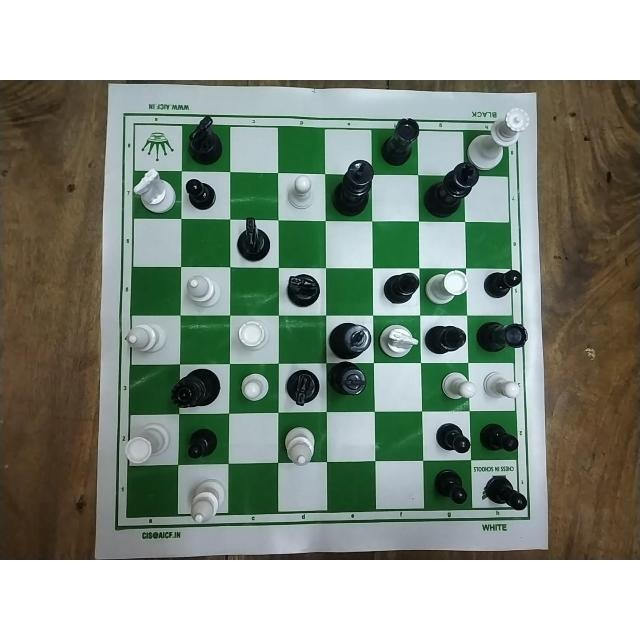black-bishop: (384, 269, 420, 308), (425, 324, 467, 356)
black-king: (427, 162, 479, 220), (332, 161, 376, 218), (328, 321, 371, 359), (327, 362, 371, 399)
black-knight: (185, 116, 228, 164), (235, 217, 273, 261), (284, 274, 322, 311), (284, 367, 320, 406)
black-pawn: (481, 473, 527, 513), (430, 466, 470, 505), (433, 419, 472, 457), (478, 422, 521, 454), (483, 265, 523, 298), (186, 428, 222, 464), (184, 179, 219, 210)
black-queen: (168, 368, 221, 411)
black-rook: (380, 117, 422, 169), (477, 323, 533, 355)
white-bishop: (185, 472, 227, 524), (123, 324, 170, 360), (181, 273, 225, 309), (284, 425, 316, 467)
white-knight: (134, 168, 178, 212), (376, 324, 419, 360)
white-pawn: (483, 370, 520, 406), (439, 370, 476, 406), (282, 175, 314, 211), (239, 372, 271, 405)
white-queen: (467, 105, 529, 171)
white-rook: (123, 419, 172, 468), (425, 269, 469, 310), (237, 320, 270, 358)
